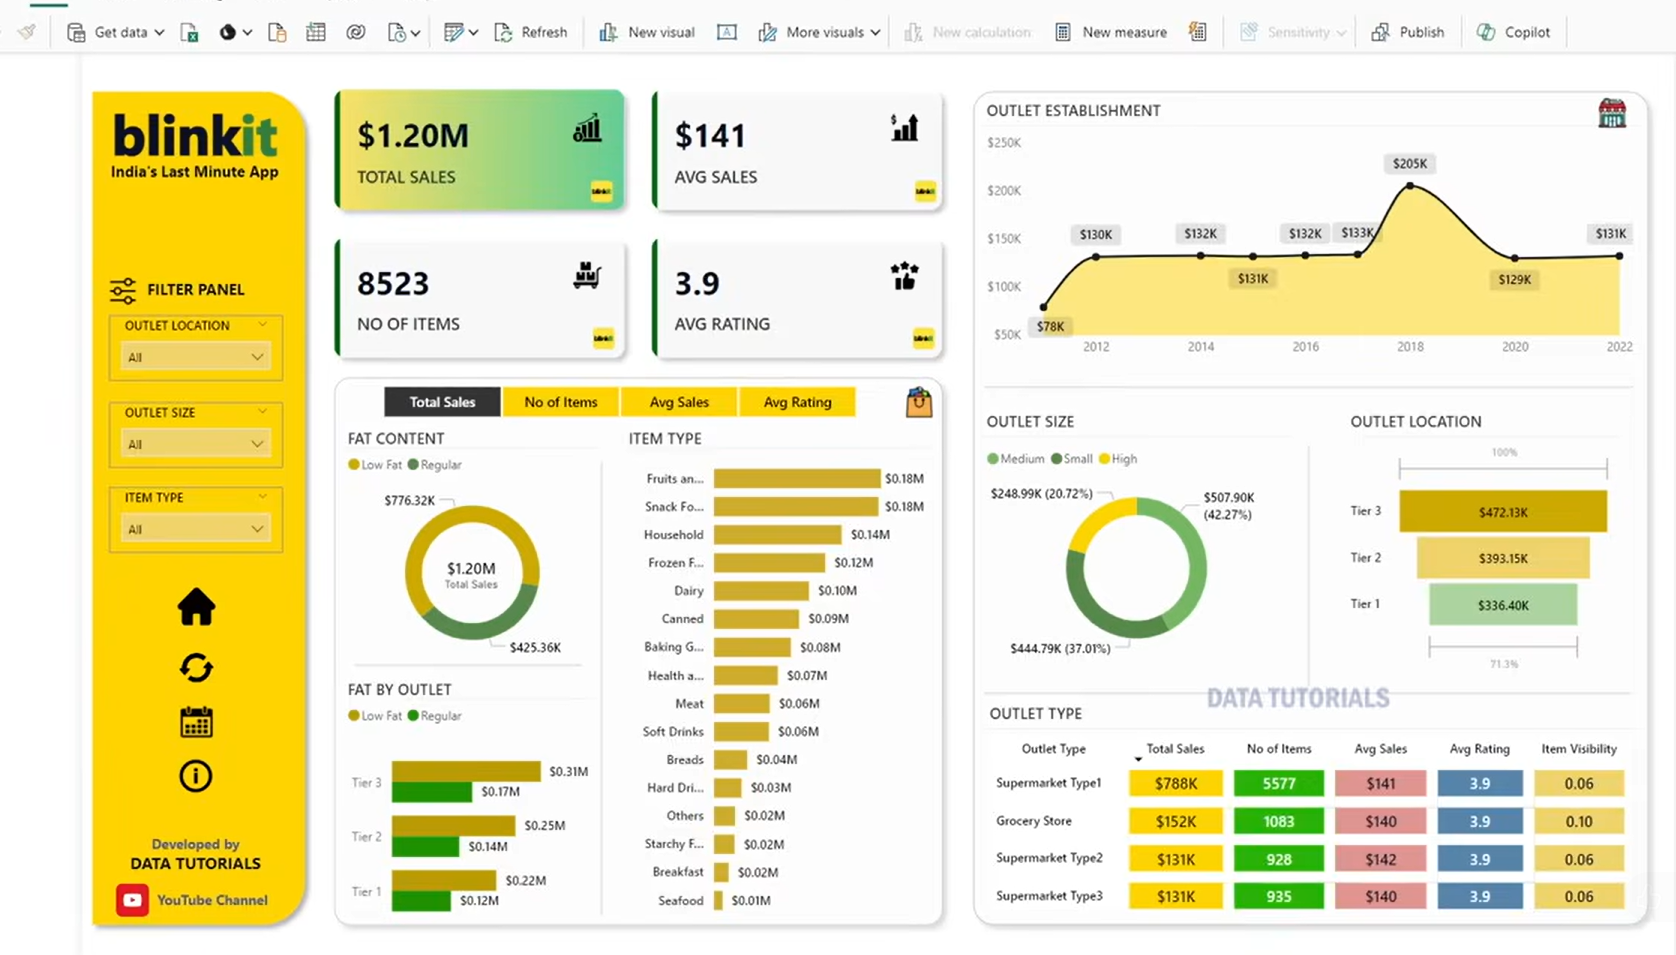

Layout of this report page (visuals, bound fields, positions):
{"tool":"powerbi","page":{"name":"Page 1","canvas":[1300,900],"ordinal":0},"visuals":[{"type":"shape","box":[26.2,0,210,750],"z":0},{"type":"textbox","box":[47.5,41.2,158.8,65],"z":1},{"type":"textbox","box":[47.5,85,158.8,41.2],"z":2},{"type":"cardVisual","fields":{"Data":["BlinkIT Grocery Data.Total Sales","BlinkIT Grocery Data.No of items","BlinkIT Grocery Data.Average Sales","BlinkIT Grocery Data.Avg rating"]},"box":[236.2,0,396.2,228.8],"z":3},{"type":"shape","box":[236.2,227.5,466.2,485],"z":4},{"type":"donutChart","title":"FAT CONTENT","fields":{"Category":["BlinkIT Grocery Data.Item Fat Content"],"Y":["BlinkIT Grocery Data.Total Sales"]},"box":[247.5,288.8,210,172.5],"z":5},{"type":"slicer","fields":{"Values":["Metrics.Metrics"]},"box":[250,243.8,436.2,45],"z":6},{"type":"cardVisual","fields":{"Data":["BlinkIT Grocery Data.Total Sales"]},"box":[341.2,283.8,110,72.5],"z":7},{"type":"clusteredBarChart","title":"FAT BY OUTLET","fields":{"Y":["BlinkIT Grocery Data.Total Sales"],"Category":["BlinkIT Grocery Data.Outlet Location Type"],"Series":["BlinkIT Grocery Data.Item Fat Content"]},"box":[260,477.5,210,211.2],"z":8},{"type":"shape","box":[250.7,397.3,233.3,150.7],"z":9},{"type":"barChart","title":"Item Type","fields":{"Y":["BlinkIT Grocery Data.Total Sales"],"Category":["BlinkIT Grocery Data.Item Type"]},"box":[480,283.8,206.2,412.5],"z":11},{"type":"shape","box":[702.7,1.3,501.3,713.3],"z":12},{"type":"lineChart","title":"Outlet Establishment","fields":{"Y":["BlinkIT Grocery Data.Total Sales"],"Category":["BlinkIT Grocery Data.Outlet Establishment Year"]},"box":[750,8.8,397.5,213.8],"z":13},{"type":"donutChart","title":"FAT CONTENT","fields":{"Y":["BlinkIT Grocery Data.Total Sales"],"Category":["BlinkIT Grocery Data.Outlet Size"]},"box":[737.5,255,211.2,172.5],"z":15},{"type":"funnel","title":"Outlet Location","fields":{"Category":["BlinkIT Grocery Data.Outlet Location Type"],"Y":["Sum(BlinkIT Grocery Data.Sales)"]},"box":[966.2,238.8,208.8,205],"z":16},{"type":"pivotTable","fields":{"Rows":["BlinkIT Grocery Data.Outlet Type"],"Values":["BlinkIT Grocery Data.Average Sales","BlinkIT Grocery Data.No of items","BlinkIT Grocery Data.Total Sales","BlinkIT Grocery Data.Avg rating","Sum(BlinkIT Grocery Data.Item Visibility)"]},"box":[717.3,470.7,461.3,217.3],"z":17},{"type":"slicer","fields":{"Values":["BlinkIT Grocery Data.Outlet Location Type"]},"box":[48,198.7,168,60],"z":18},{"type":"slicer","fields":{"Values":["BlinkIT Grocery Data.Outlet Size"]},"box":[49.3,281.3,168,60],"z":19},{"type":"slicer","fields":{"Values":["BlinkIT Grocery Data.Item Type"]},"box":[49.3,366.7,168,60],"z":20}]}

Visuals, with their boxes on the page's 1300x900 design canvas (x1, y1, x2, y2). These are canvas units, not pixel positions in the 1676x955 screenshot, which may show the page scaled, cropped or inside an application window:
shape: (26,0,236,750)
textbox: (48,41,206,106)
textbox: (48,85,206,126)
cardVisual - BlinkIT Grocery Data.Total Sales x BlinkIT Grocery Data.No of items: (236,0,632,229)
shape: (236,228,702,712)
"FAT CONTENT" donutChart: (248,289,458,461)
slicer - Metrics.Metrics: (250,244,686,289)
cardVisual - BlinkIT Grocery Data.Total Sales: (341,284,451,356)
"FAT BY OUTLET" clusteredBarChart: (260,478,470,689)
shape: (251,397,484,548)
"Item Type" barChart: (480,284,686,696)
shape: (703,1,1204,715)
"Outlet Establishment" lineChart: (750,9,1148,223)
"FAT CONTENT" donutChart: (738,255,949,428)
"Outlet Location" funnel: (966,239,1175,444)
pivotTable - BlinkIT Grocery Data.Outlet Type x BlinkIT Grocery Data.Average Sales: (717,471,1179,688)
slicer - BlinkIT Grocery Data.Outlet Location Type: (48,199,216,259)
slicer - BlinkIT Grocery Data.Outlet Size: (49,281,217,341)
slicer - BlinkIT Grocery Data.Item Type: (49,367,217,427)
